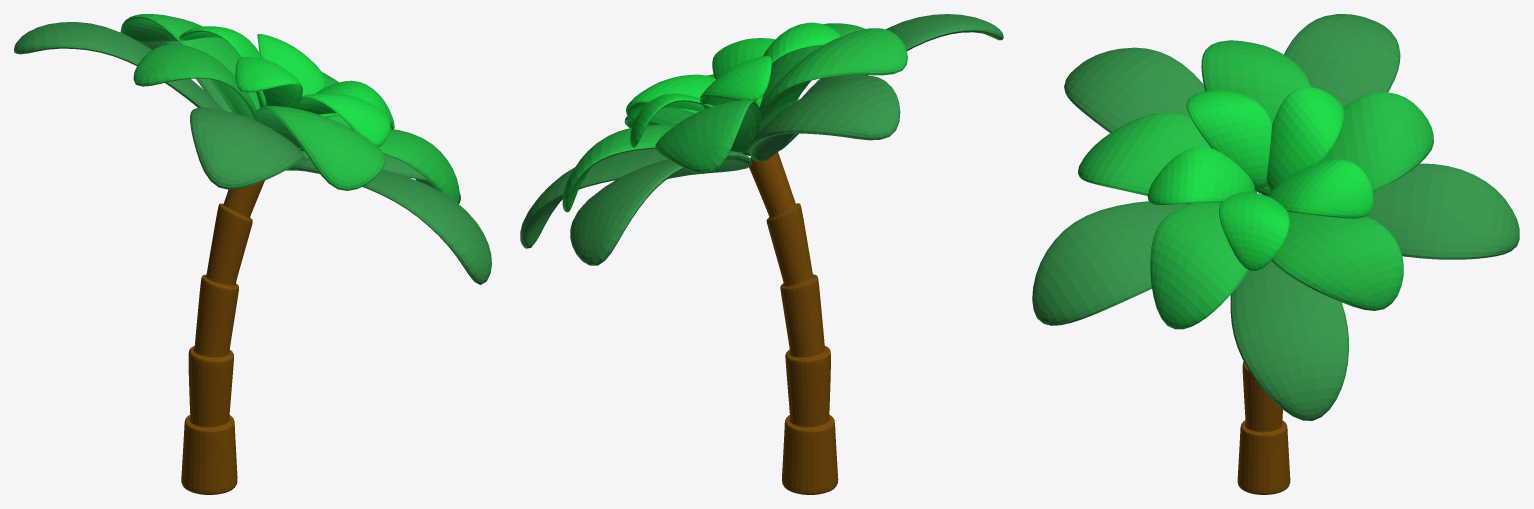
Rendered from Palmier.gltf.
3 renders of one model, left to right at view 1: azimuth 30°, elevation 25°; view 2: azimuth 150°, elevation 25°; view 3: azimuth 270°, elevation 25°, orthographic. The views are drawn at different scales.
Parts seen in each view (by area): view 1: leaf (×14), tronc; view 2: leaf (×14), tronc; view 3: leaf (×15), tronc.
Boxes of the visible parts, x1,y1,x2,y2 form: leaf (×14): (14, 14, 491, 284); tronc: (181, 180, 264, 494); leaf (×14): (520, 14, 1003, 265); tronc: (749, 152, 838, 494); leaf (×15): (1032, 14, 1519, 420); tronc: (1237, 361, 1290, 494).
Bounding box in the file's own units: 3.23 × 3.46 × 3.65.
